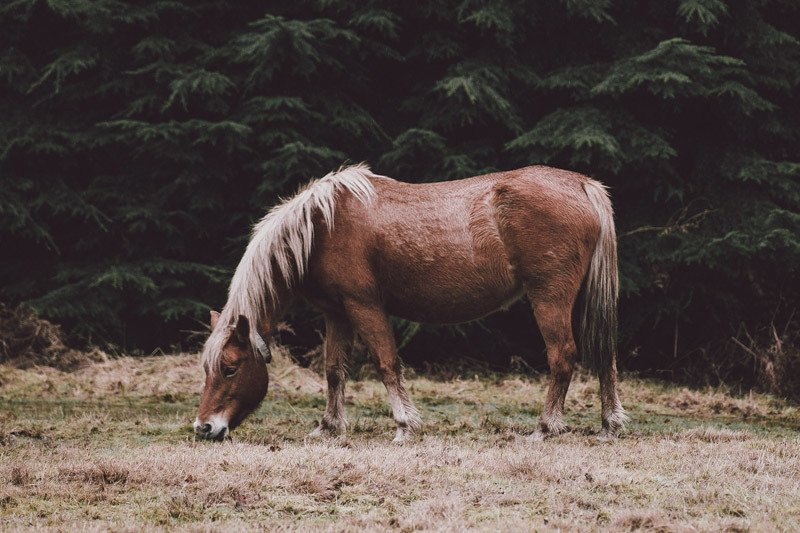Horse: (183, 149, 668, 487)
